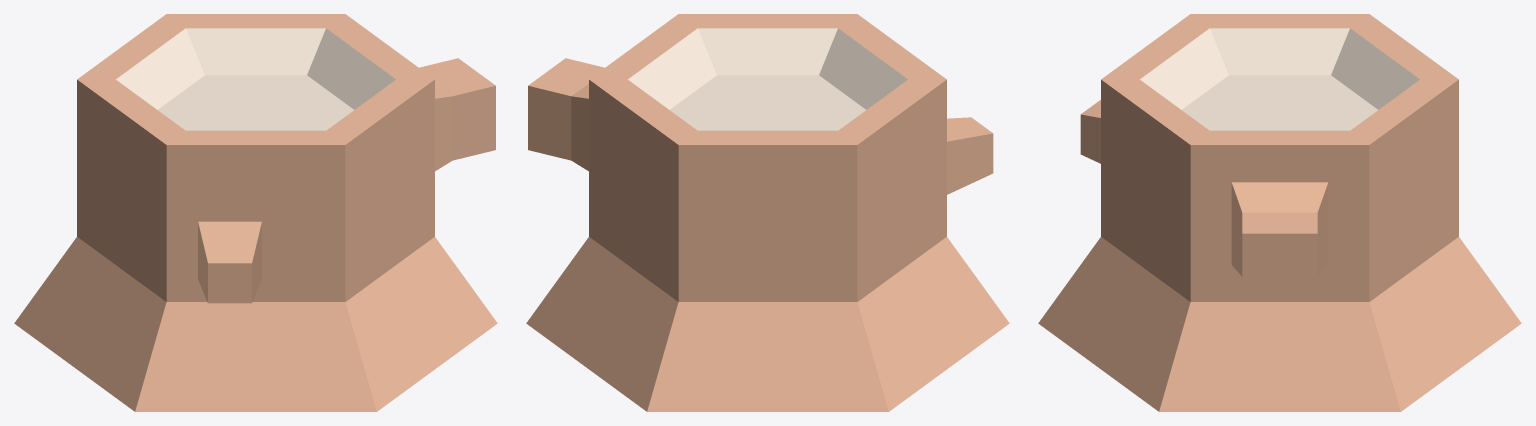
The model's file is stump_roundDetailed.glb.
3 views of the same model, side by side, from view 1: azimuth 30°, elevation 25°; view 2: azimuth 150°, elevation 25°; view 3: azimuth 270°, elevation 25° (orthographic).
Visible parts, largest first — view 1: stump_roundDetailed; view 2: stump_roundDetailed; view 3: stump_roundDetailed.
Part boxes in pixels (x1,y1,x2,y2): stump_roundDetailed: [14, 14, 497, 411]; stump_roundDetailed: [526, 14, 1009, 411]; stump_roundDetailed: [1038, 14, 1521, 411].
Size of the model in its own units: 0.3565 by 0.2065 by 0.371.
1 material, 1 textured.
